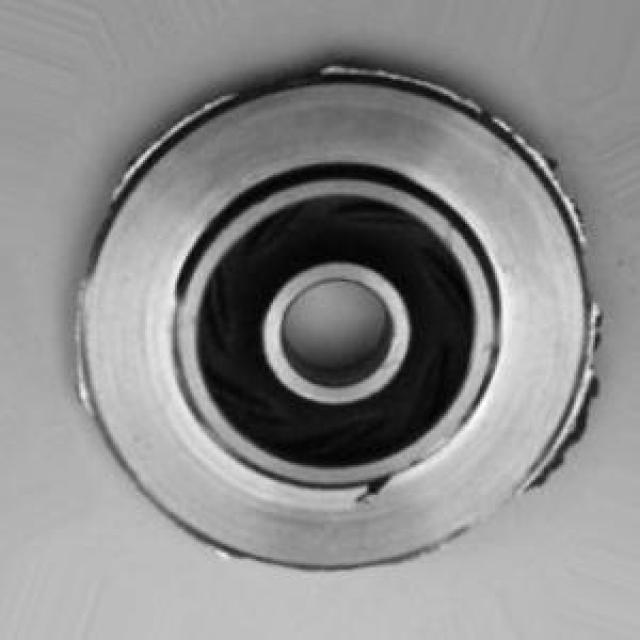Defect: (359, 52, 446, 99), (352, 474, 402, 507)
